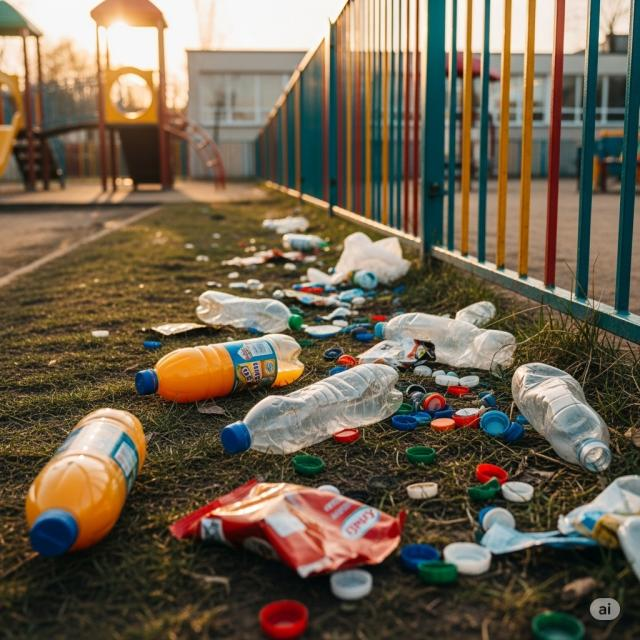plastic: (16, 408, 148, 556), (226, 366, 400, 454), (134, 333, 308, 403), (506, 361, 612, 472), (192, 288, 301, 338)
